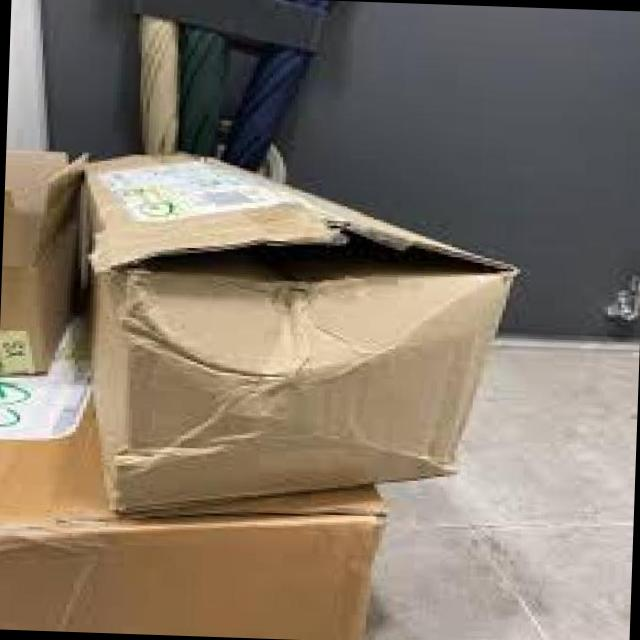box: (62, 101, 574, 556)
